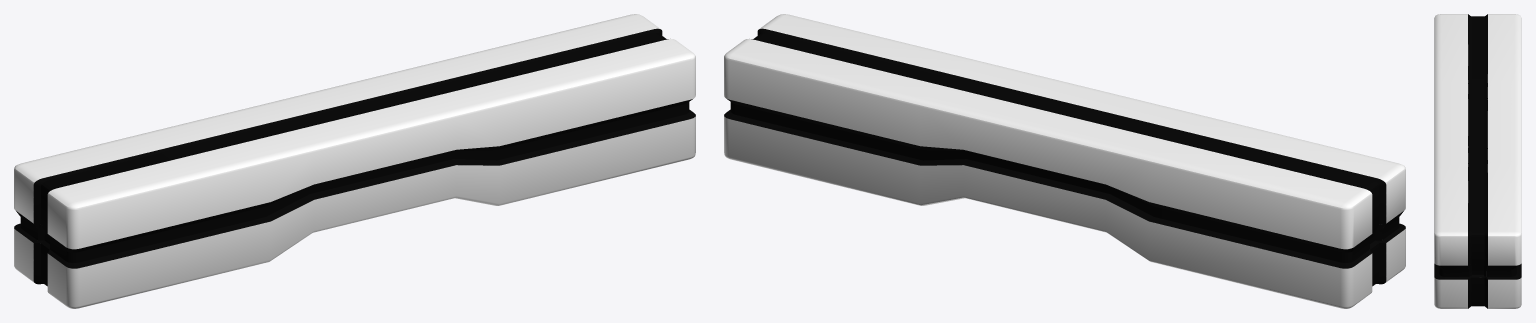
File: GameWall.fbx
3 renders of one model, left to right at view 1: azimuth 30°, elevation 25°; view 2: azimuth 150°, elevation 25°; view 3: azimuth 270°, elevation 25°, orthographic. The views are drawn at different scales.
Visible parts, largest first — view 1: GameWall; view 2: GameWall; view 3: GameWall.
Boxes of the visible parts, left/top/right/bottom form: GameWall: left=14, top=14, right=695, bottom=308; GameWall: left=724, top=14, right=1405, bottom=308; GameWall: left=1434, top=14, right=1521, bottom=308.
Bounding box in the file's own units: 2400 × 385 × 400.
Materials: 1 (1 with a texture image).
